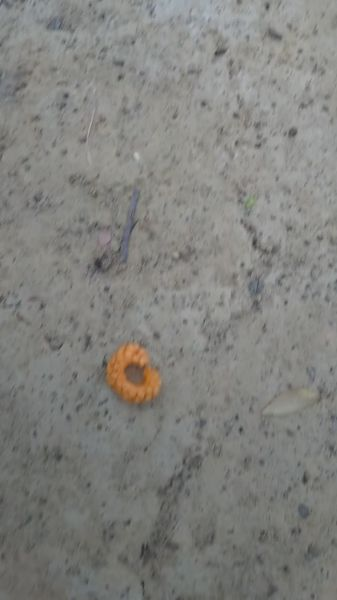eggs: (97, 328, 177, 411)
